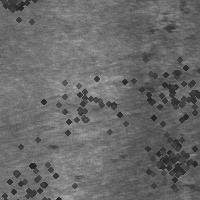rolled-in_scale: (36, 51, 138, 153), (122, 39, 200, 141), (0, 127, 85, 200), (136, 124, 200, 190), (151, 1, 192, 37), (0, 0, 44, 30)
